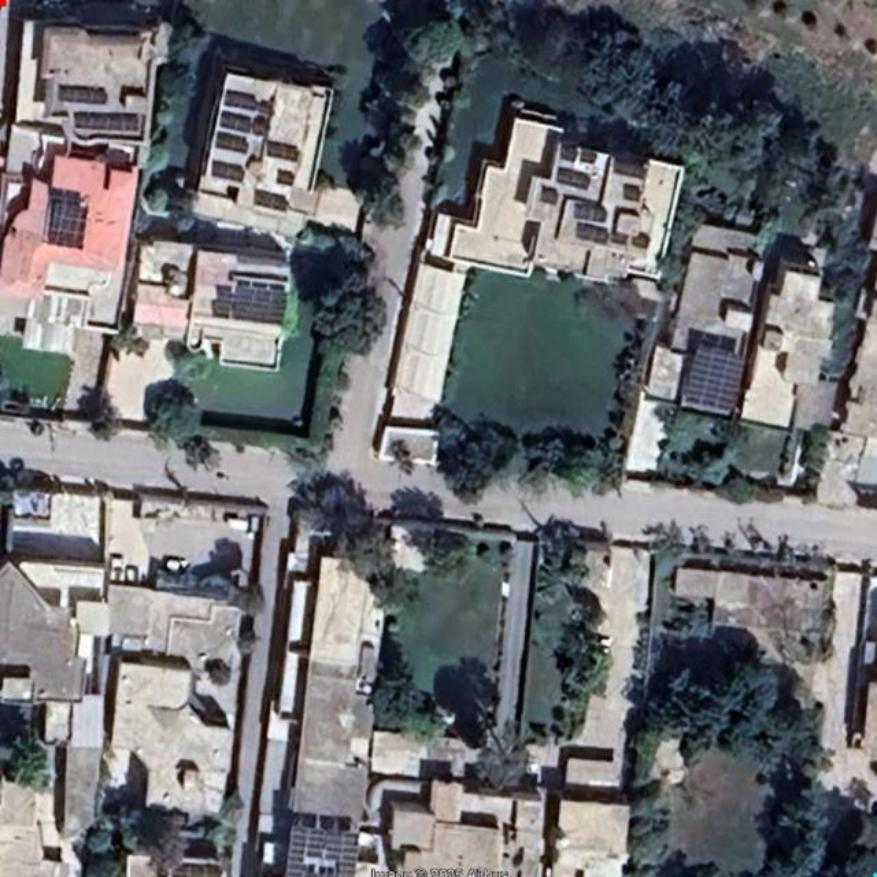Solarpanel: (682, 344, 748, 412), (286, 823, 360, 875), (234, 284, 289, 323), (48, 197, 88, 248), (73, 112, 137, 131), (59, 86, 105, 103), (220, 109, 252, 133), (252, 188, 285, 211), (224, 87, 258, 108), (575, 222, 606, 245), (266, 140, 296, 162), (215, 130, 247, 149), (557, 168, 588, 187), (214, 161, 244, 180), (574, 204, 606, 220)
